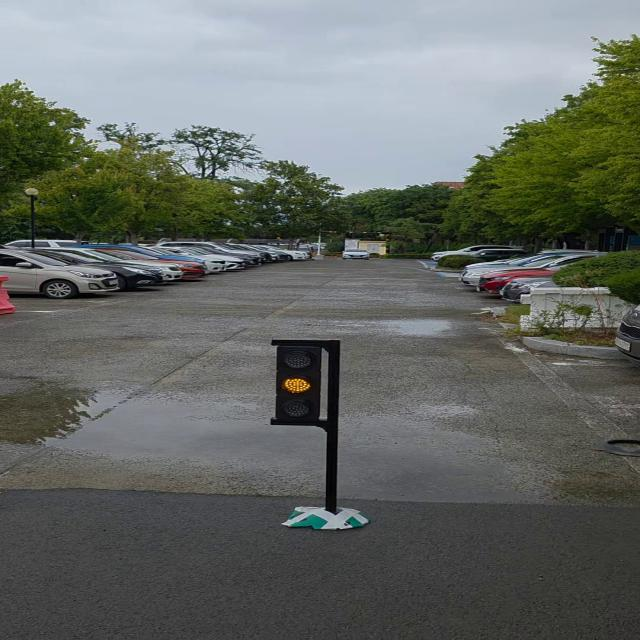yellow: (271, 339, 336, 426)
